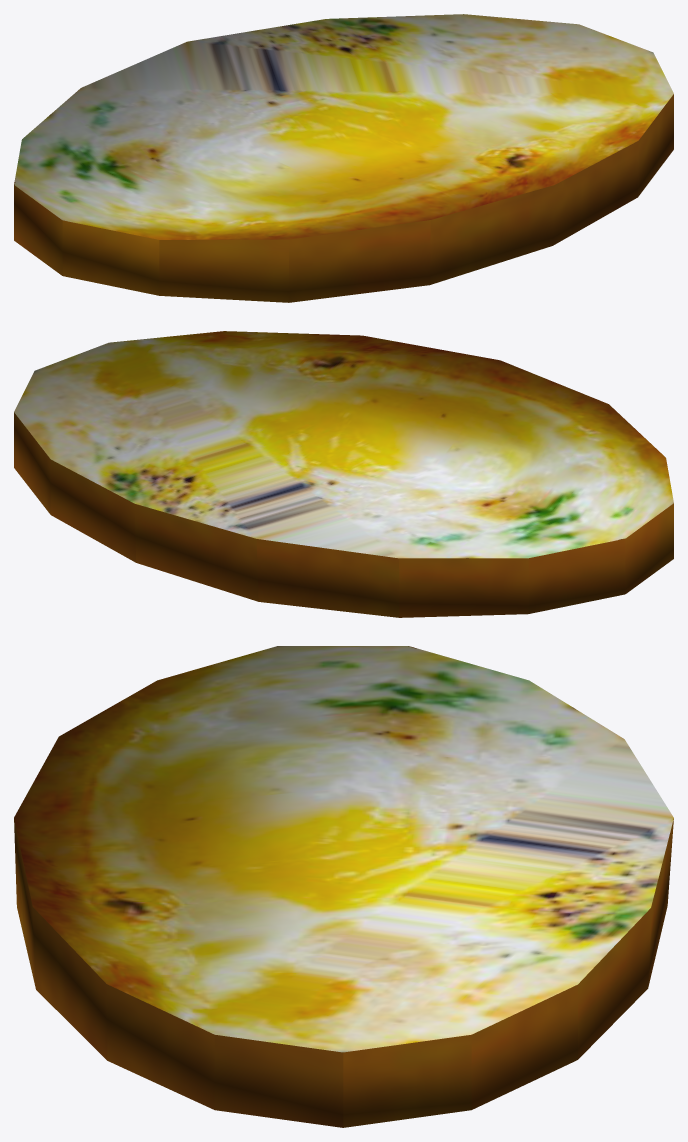
Rendered from EggMuffin_.fbx.
3 views of the same model, one above another, from view 1: azimuth 30°, elevation 25°; view 2: azimuth 150°, elevation 25°; view 3: azimuth 270°, elevation 25° (orthographic). The views are drawn at different scales.
Visible parts, largest first — view 1: EggMuffin; view 2: EggMuffin; view 3: EggMuffin.
Part boxes in pixels (left/top/right/bottom): EggMuffin: left=14, top=14, right=673, bottom=302; EggMuffin: left=14, top=331, right=673, bottom=617; EggMuffin: left=14, top=646, right=673, bottom=1127.
Size of the model in its own units: 71.74 by 7.36 by 49.23.
Materials: 1 (1 with a texture image).
